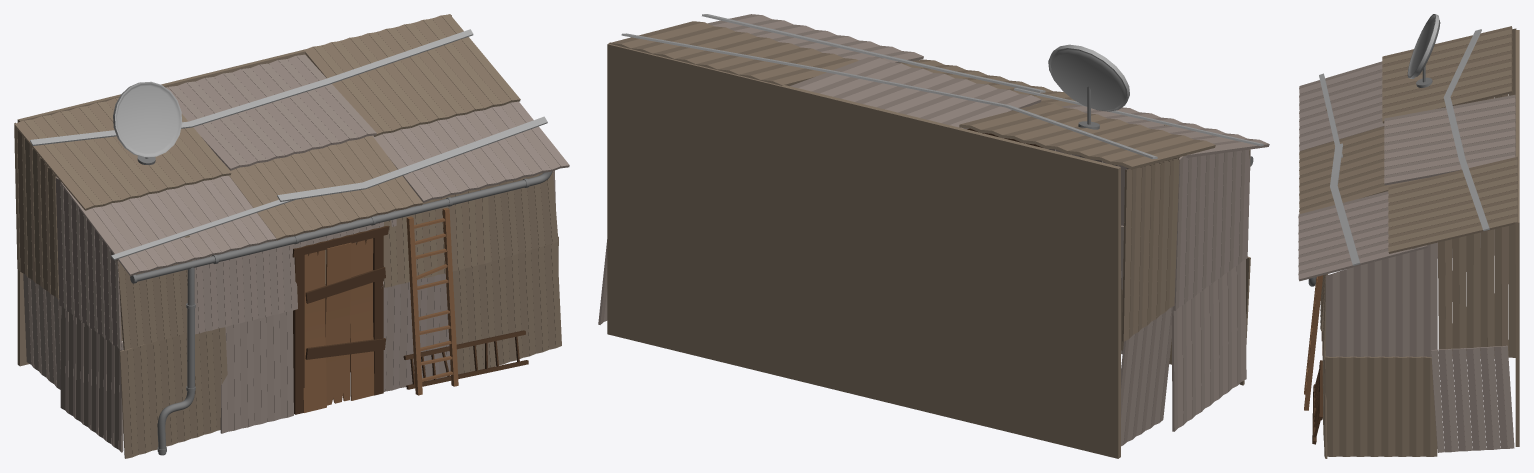
Rendered from maison.fbx.
3 views of the same model, side by side, from view 1: azimuth 30°, elevation 25°; view 2: azimuth 150°, elevation 25°; view 3: azimuth 270°, elevation 25° (orthographic). The views are drawn at different scales.
Visible parts, largest first — view 1: maison_1; view 2: maison_1; view 3: maison_1.
Part boxes in pixels (x1,y1,x2,y2): maison_1: [14, 14, 569, 458]; maison_1: [598, 14, 1269, 458]; maison_1: [1298, 14, 1519, 458].
Size of the model in its own units: 9.7 by 6.34 by 4.44.
